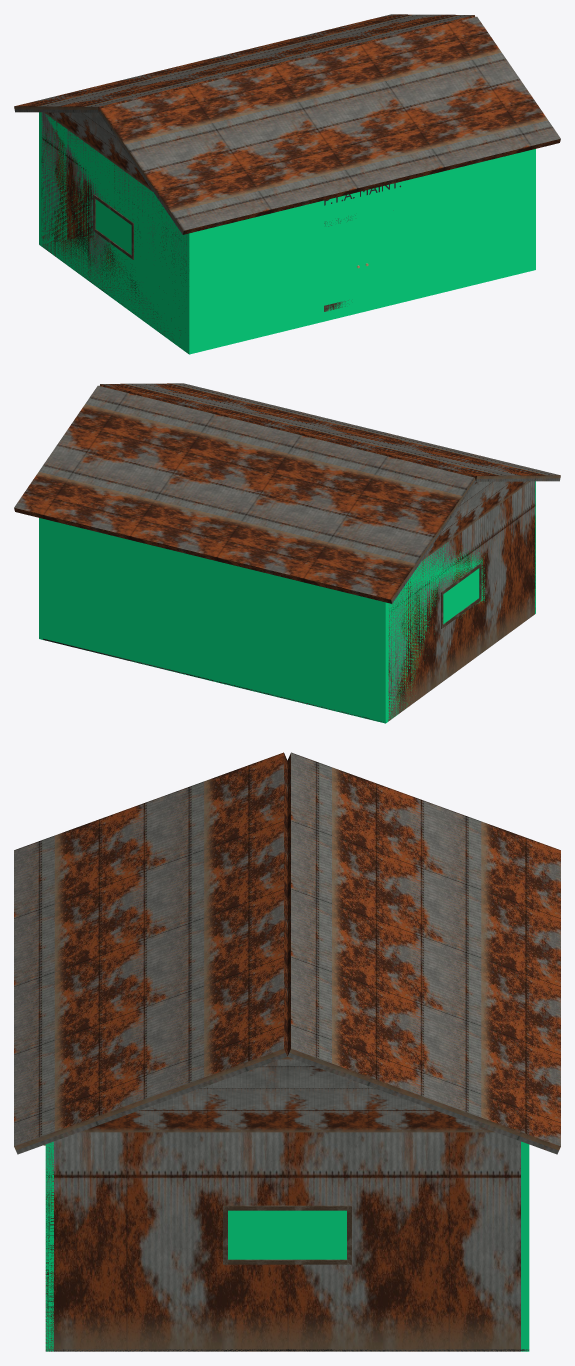
Rendered from maint_shed.glb.
The picture shows the model from 3 angles, top to bottom: view 1: azimuth 30°, elevation 25°; view 2: azimuth 150°, elevation 25°; view 3: azimuth 270°, elevation 25°; orthographic projection. The views are drawn at different scales.
Parts seen in each view (by area): view 1: MaintShed, COL_ms_w0, COL_ms_s0, COL_ms_s1, COL_Door_MaintShed_R, COL_Door_MaintShed_L, COL_ms_e0; view 2: MaintShed, COL_ms_n0, COL_ms_w0, COL_ms_e0; view 3: MaintShed, COL_ms_e0, COL_ms_n0, COL_ms_s1.
Part boxes in pixels (bbox=[...]): MaintShed: bbox=[14, 14, 560, 347]; COL_ms_w0: bbox=[39, 114, 193, 354]; COL_ms_s0: bbox=[186, 201, 321, 353]; COL_ms_s1: bbox=[403, 150, 531, 301]; COL_Door_MaintShed_R: bbox=[362, 181, 403, 311]; COL_Door_MaintShed_L: bbox=[321, 191, 362, 322]; COL_ms_e0: bbox=[531, 149, 535, 270]; MaintShed: bbox=[14, 383, 560, 722]; COL_ms_n0: bbox=[39, 518, 388, 723]; COL_ms_w0: bbox=[381, 543, 485, 723]; COL_ms_e0: bbox=[39, 518, 43, 639]; MaintShed: bbox=[14, 752, 560, 1351]; COL_ms_e0: bbox=[228, 1210, 346, 1259]; COL_ms_n0: bbox=[521, 1141, 529, 1351]; COL_ms_s1: bbox=[45, 1141, 53, 1351].
Size of the model in its own units: 8.7 by 4.32 by 6.79.
Materials: 20 (9 with a texture image).
